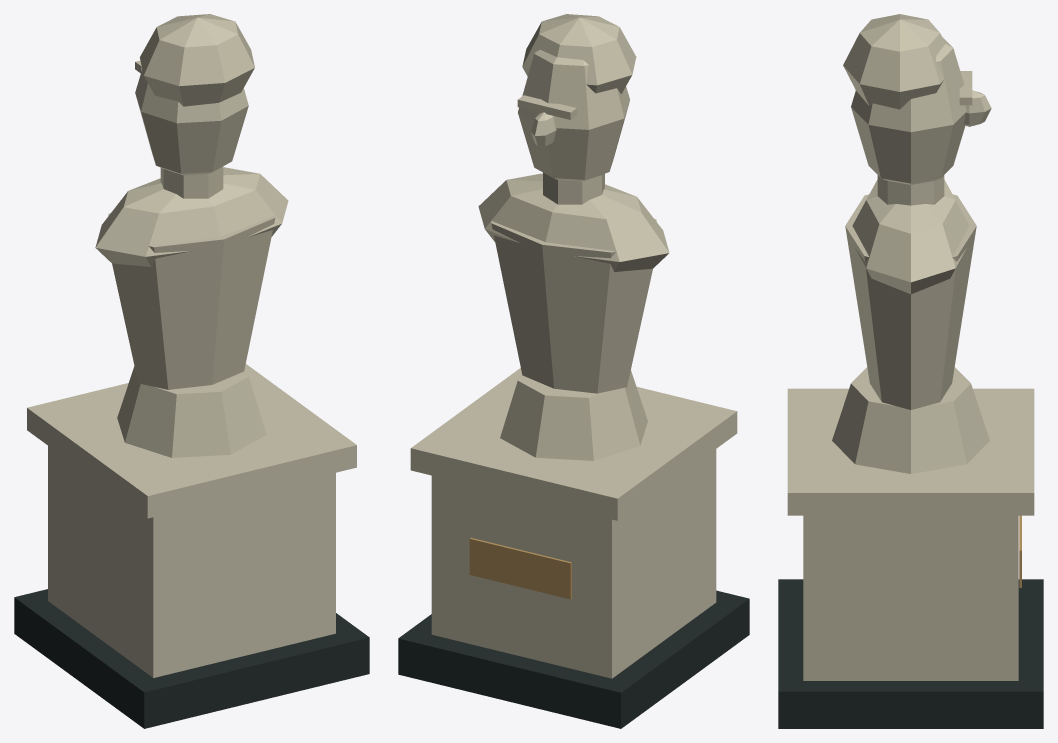
File: LP_Central_StatueNW.fbx
The picture shows the model from 3 angles, left to right: view 1: azimuth 30°, elevation 25°; view 2: azimuth 150°, elevation 25°; view 3: azimuth 270°, elevation 25°; orthographic projection. The views are drawn at different scales.
Parts seen in each view (by area): view 1: M_Central_Limestone, Charcoal; view 2: M_Central_Limestone, Charcoal, AgedBrass; view 3: M_Central_Limestone, Charcoal.
Boxes of the visible parts, x1,y1,x2,y2 form: M_Central_Limestone: (27,14,356,677); Charcoal: (14,589,369,728); M_Central_Limestone: (410,14,737,678); Charcoal: (398,590,749,728); AgedBrass: (469,538,571,599); M_Central_Limestone: (787,14,1034,680); Charcoal: (778,579,1043,728).
Bounding box in the file's own units: 84 × 228 × 84.
